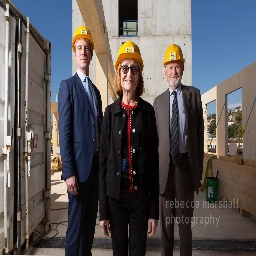helmet: (112, 40, 146, 69), (71, 25, 96, 48), (162, 44, 186, 65)
no-vest: (103, 102, 158, 186), (59, 76, 104, 171), (152, 91, 210, 163)
person: (97, 38, 160, 253), (154, 43, 207, 256), (55, 22, 99, 256)
